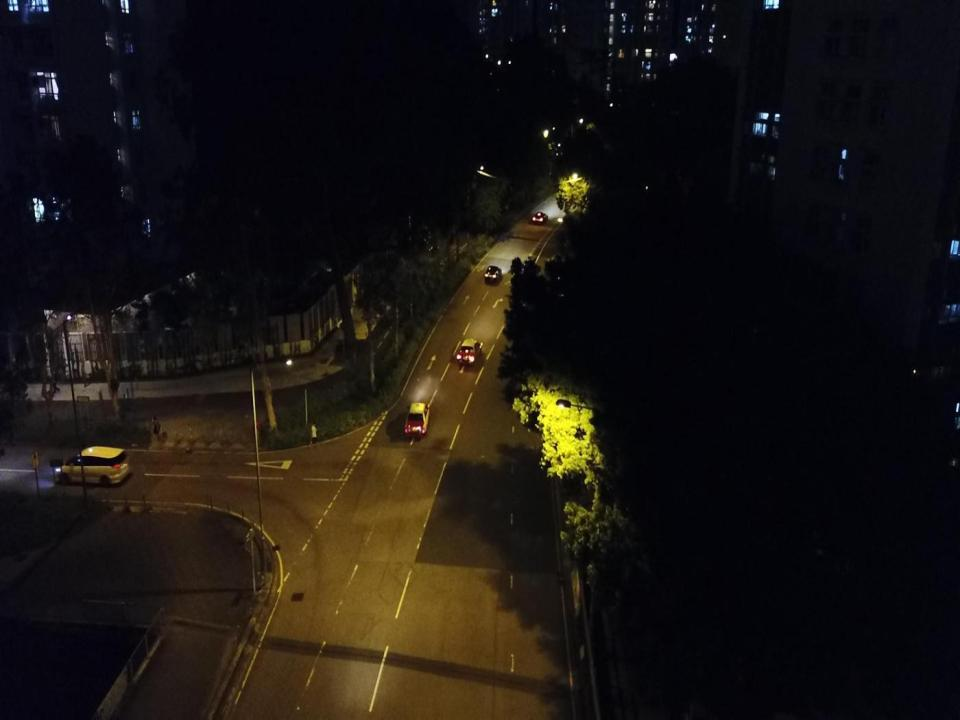car: (404, 402, 430, 439), (455, 337, 484, 366), (483, 265, 502, 284), (530, 210, 548, 225)
van: (57, 445, 132, 487)
